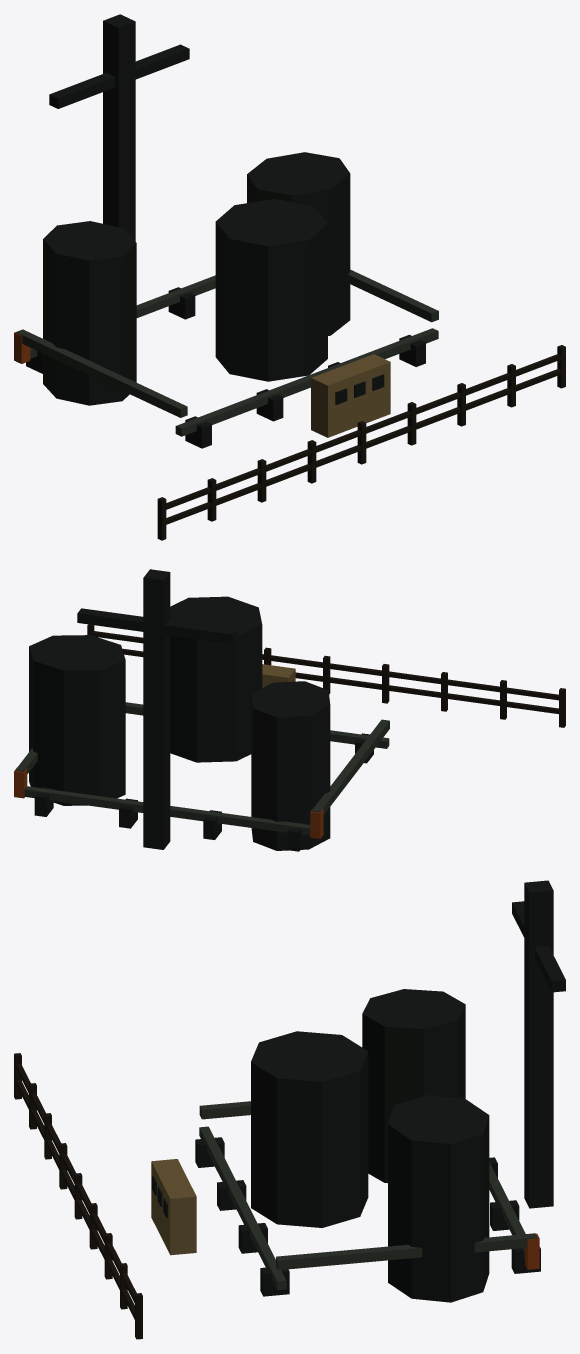
Rendered from landmark_refinery.obj.
3 views of the same model, one above another, from view 1: azimuth 30°, elevation 25°; view 2: azimuth 150°, elevation 25°; view 3: azimuth 270°, elevation 25° (orthographic). The views are drawn at different scales.
Parts seen in each view (by area): view 1: tankInstances_001, MilitaryStructure7, tankInstances_0003, tankInstances_002, ironStructure_0007, metalStructure_0007; view 2: tankInstances_002, tankInstances_001, tankInstances_0003, MilitaryStructure7, ironStructure_0007, metalStructure_0007; view 3: tankInstances_001, tankInstances_002, MilitaryStructure7, tankInstances_0003, ironStructure_0007, metalStructure_0007.
Boxes of the visible parts, x1,y1,x2,y2 form: tankInstances_001: [215, 199, 327, 381]; MilitaryStructure7: [14, 269, 438, 448]; tankInstances_0003: [43, 221, 136, 405]; tankInstances_002: [247, 152, 350, 335]; ironStructure_0007: [103, 14, 135, 241]; metalStructure_0007: [49, 44, 189, 108]; tankInstances_002: [29, 635, 125, 805]; tankInstances_001: [170, 596, 262, 762]; tankInstances_0003: [251, 681, 330, 850]; MilitaryStructure7: [14, 664, 389, 851]; ironStructure_0007: [143, 569, 170, 849]; metalStructure_0007: [77, 608, 236, 643]; tankInstances_001: [251, 1031, 368, 1227]; tankInstances_002: [388, 1095, 489, 1302]; MilitaryStructure7: [151, 1101, 540, 1296]; tankInstances_0003: [362, 989, 465, 1183]; ironStructure_0007: [524, 880, 553, 1208]; metalStructure_0007: [512, 901, 565, 992].
Size of the model in its own units: 13.88 by 8.64 by 13.31.
